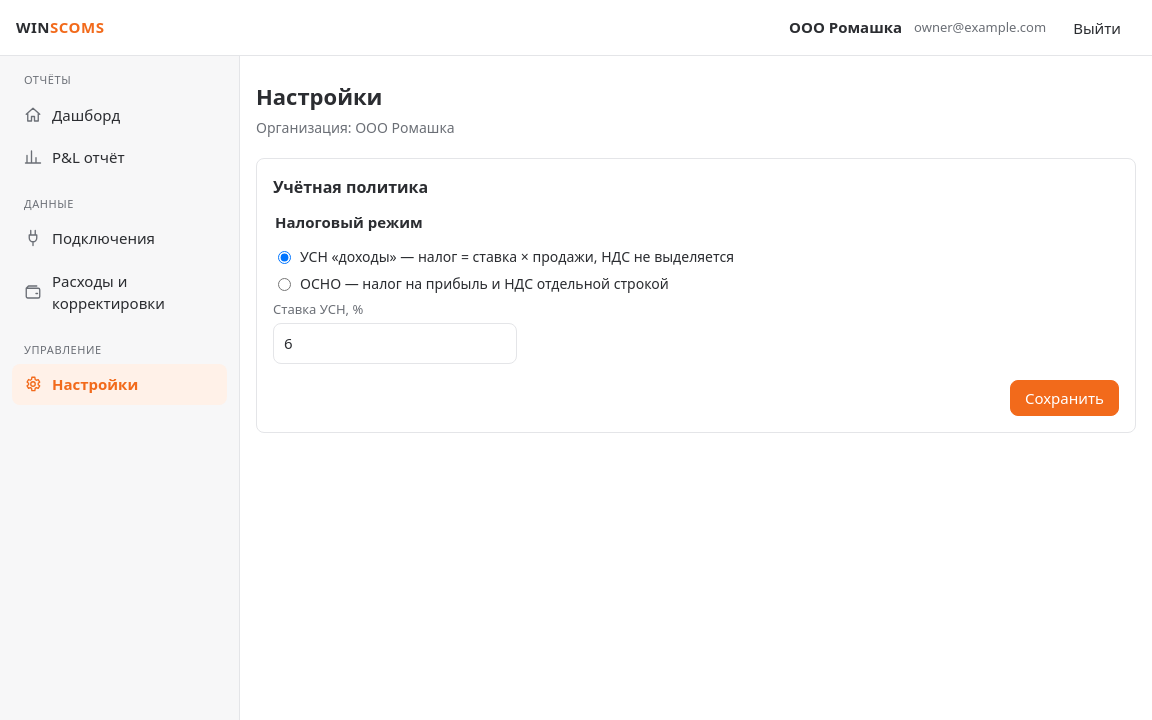
Scenario: настройки › переключение на ОСНО показывает ставки налога и НДС
Click the radio button labelled "ОСНО — налог на прибыль и НДС отдельной строкой". click: (284, 284)
box: [278, 278, 291, 291]
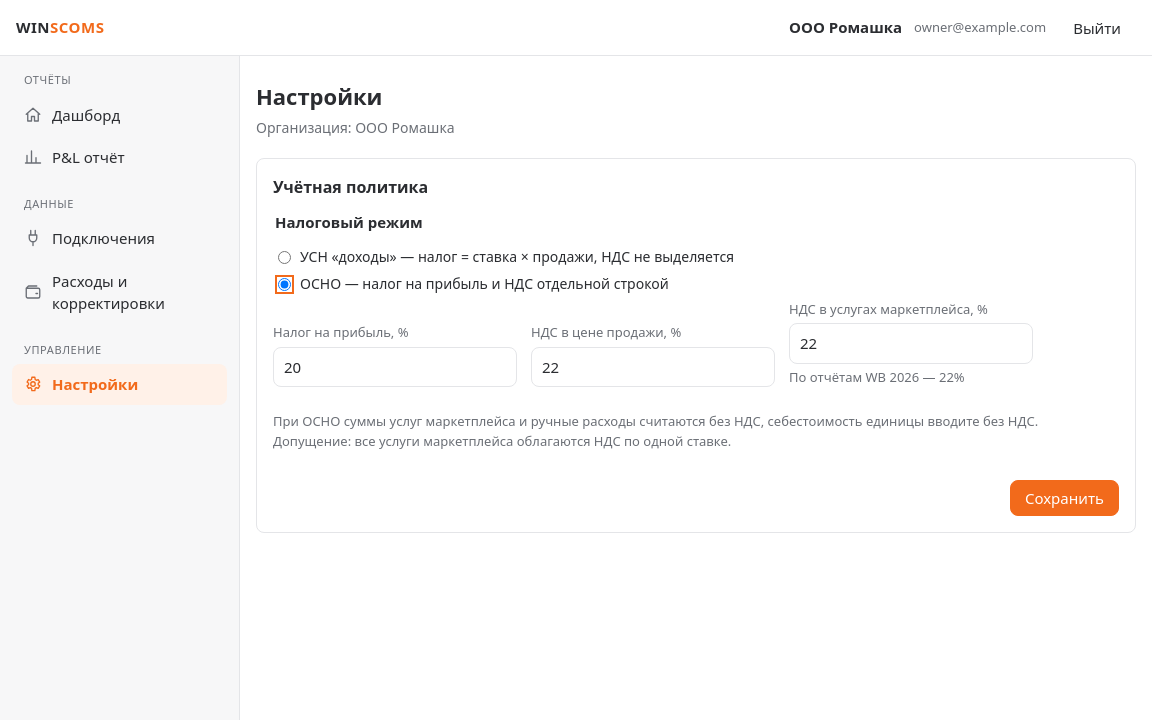
Check: the field labelled "Налог на прибыль, %" holds "20", box [273, 346, 517, 387]
Check: the field labelled "НДС в услугах маркетплейса, % По отчётам WB 2026 — 22%" holds "22", box [789, 323, 1033, 364]
Check: the text labelled "Ставка УСН, %" is gone
